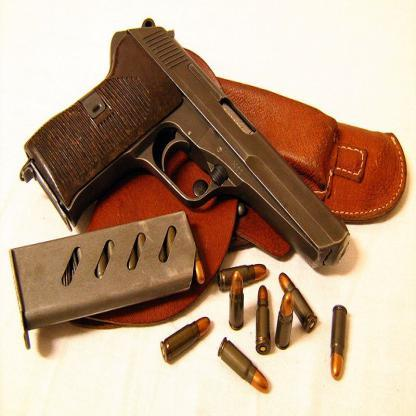Pistol: (18, 17, 352, 271)
